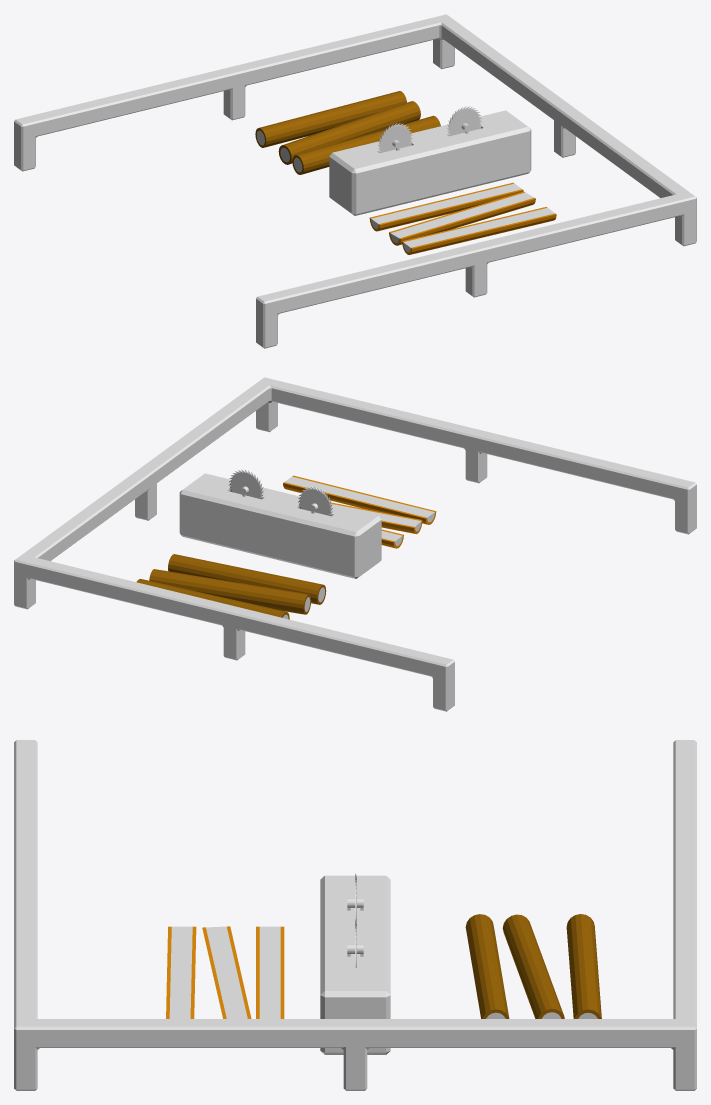
Rendered from lesopilkaGameReady.fbx.
3 renders of one model, top to bottom at view 1: azimuth 30°, elevation 25°; view 2: azimuth 150°, elevation 25°; view 3: azimuth 270°, elevation 25°, orthographic. The views are drawn at different scales.
Parts seen in each view (by area): view 1: fence, sawBox, woods1, woods2, saw2, saw1; view 2: fence, sawBox, woods1, woods2, saw2, saw1; view 3: fence, sawBox, woods1, woods2.
Boxes of the visible parts, x1,y1,x2,y2 form: fence: (14,14,696,348); sawBox: (329,110,531,215); woods1: (255,91,440,174); woods2: (369,182,556,254); saw2: (447,106,481,135); saw1: (378,123,412,152); fence: (14,377,696,711); sawBox: (179,473,381,578); woods1: (136,554,326,619); woods2: (283,475,436,548); saw2: (228,469,263,498); saw1: (298,486,332,515); fence: (14,740,696,1090); sawBox: (320,875,390,1054); woods1: (465,914,601,1018); woods2: (166,926,284,1018).
Size of the model in its own units: 2900 by 458 by 2900.
